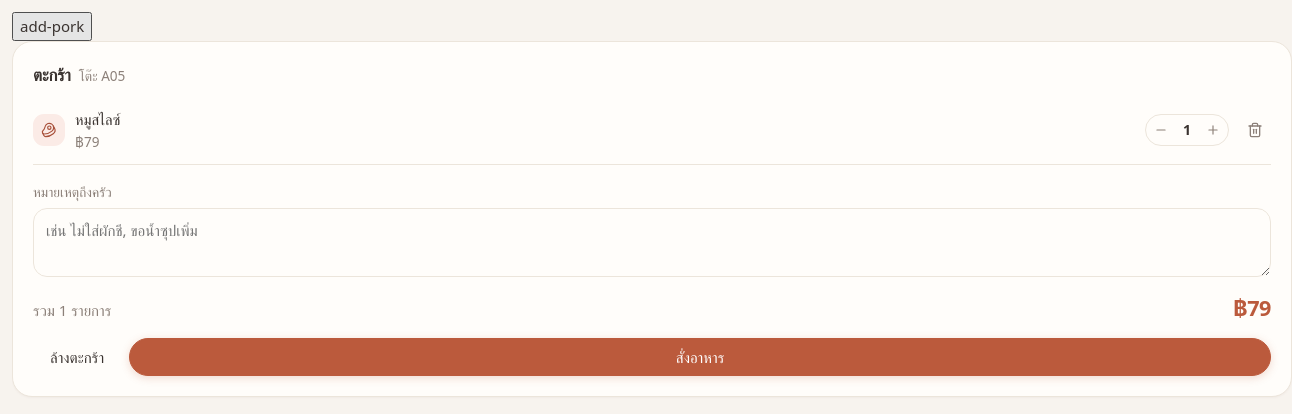
Test: CartPanel › ลบรายการออกจากตะกร้า
Earlier steps of the test are not shown.
Click the button named "ลบ หมูสไลซ์" at (1255, 130), box [1239, 114, 1271, 146]
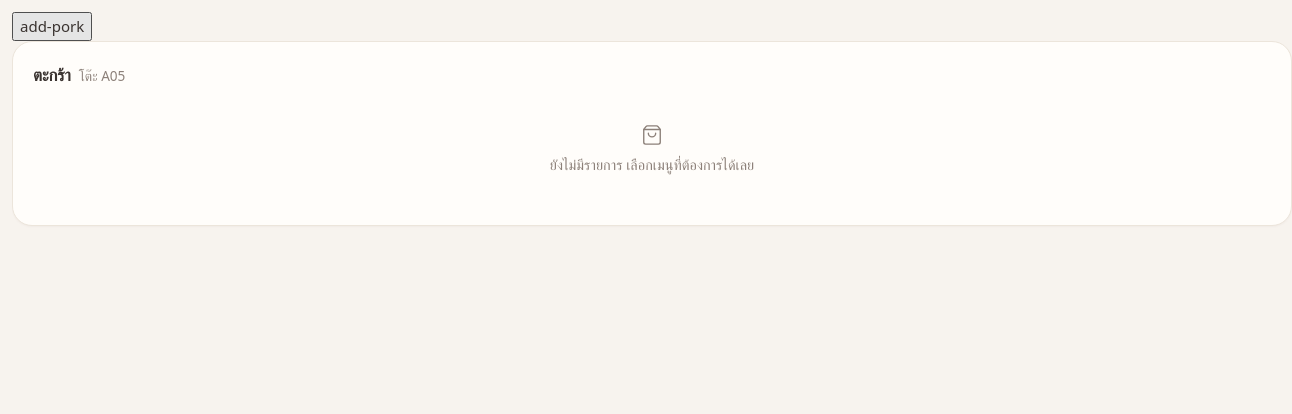
Now the text "ยังไม่มีรายการ เลือกเมนูที่ต้องการได้เลย" is shown, box [550, 154, 754, 177]
